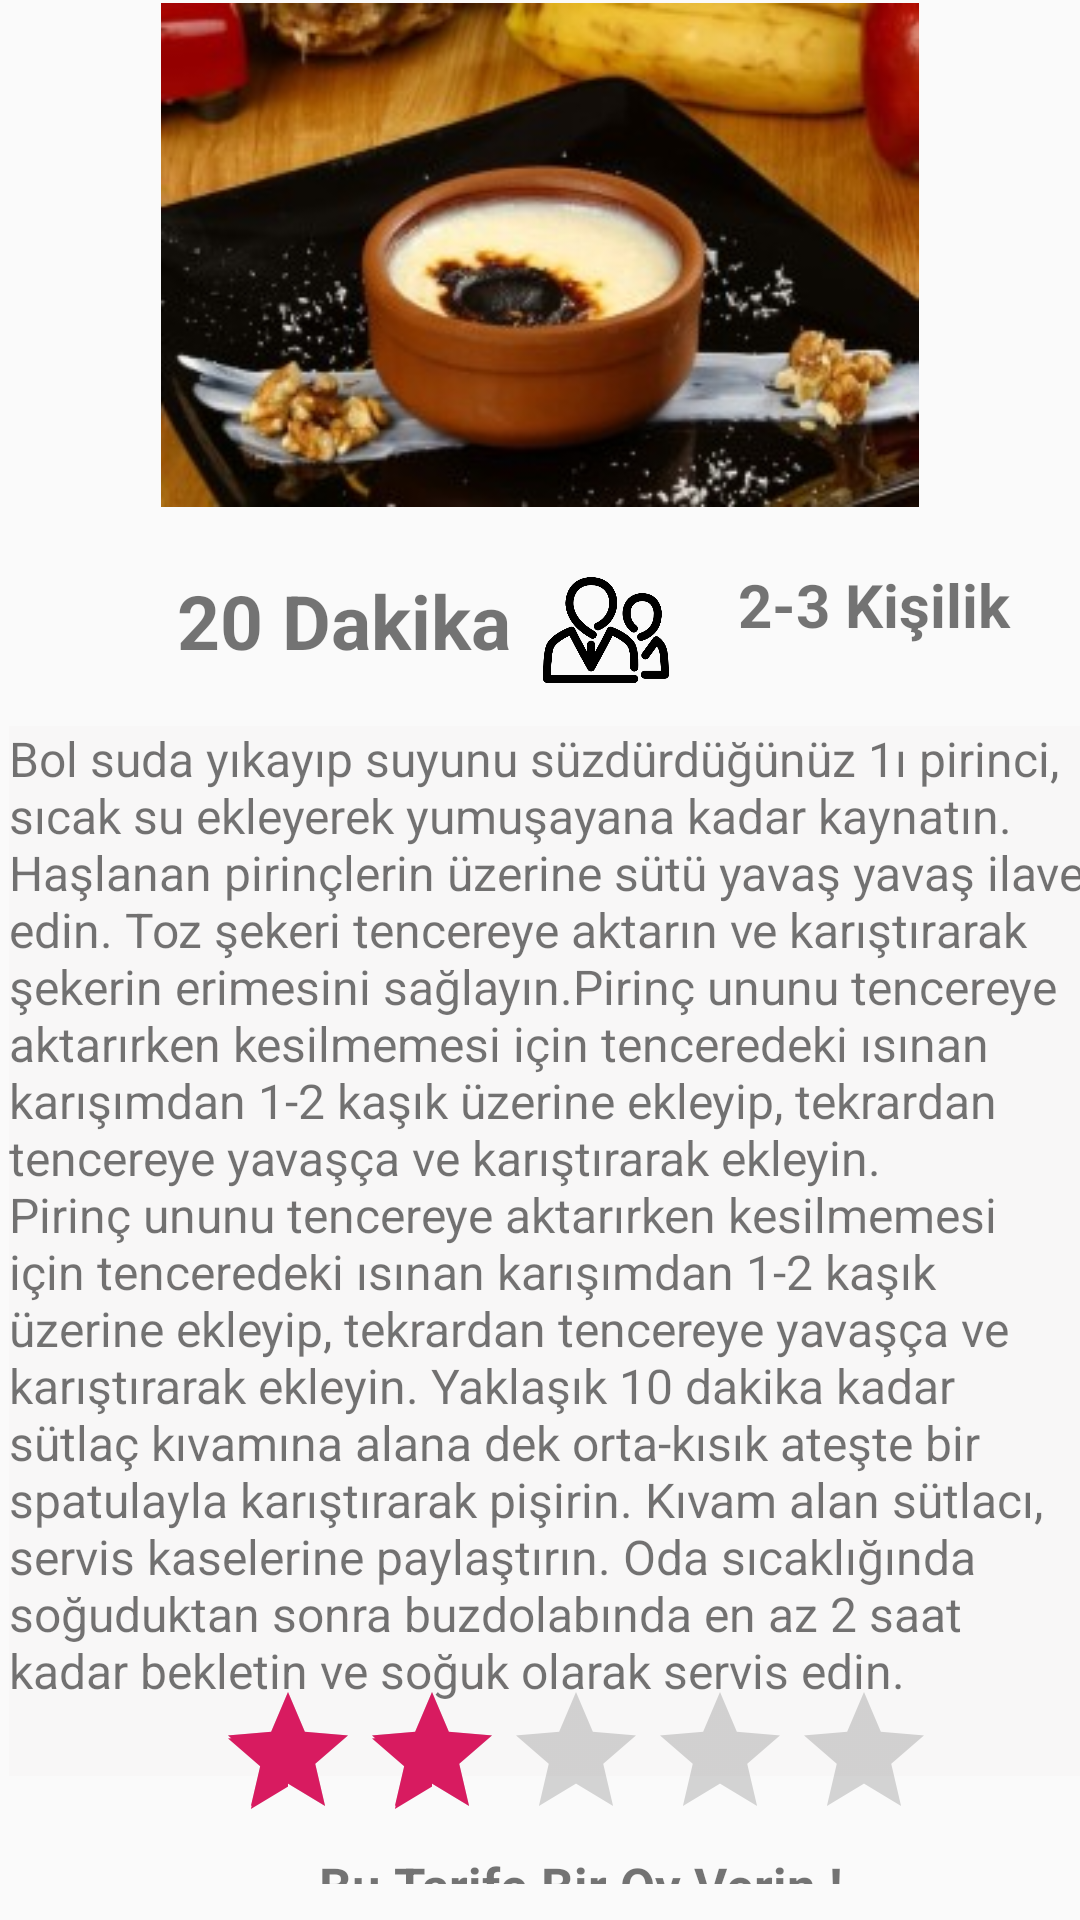

Where to tap for icons on this 1080 × 1920 app screen, as point (x, y):
personicon: point (606, 630)
